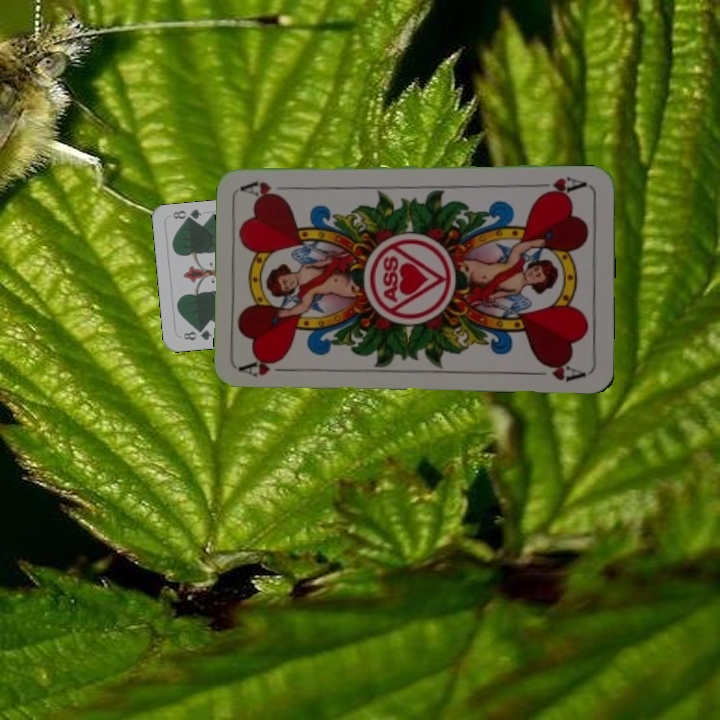G8: (179, 325, 215, 343)
HA: (238, 353, 297, 380), (531, 173, 589, 199)
